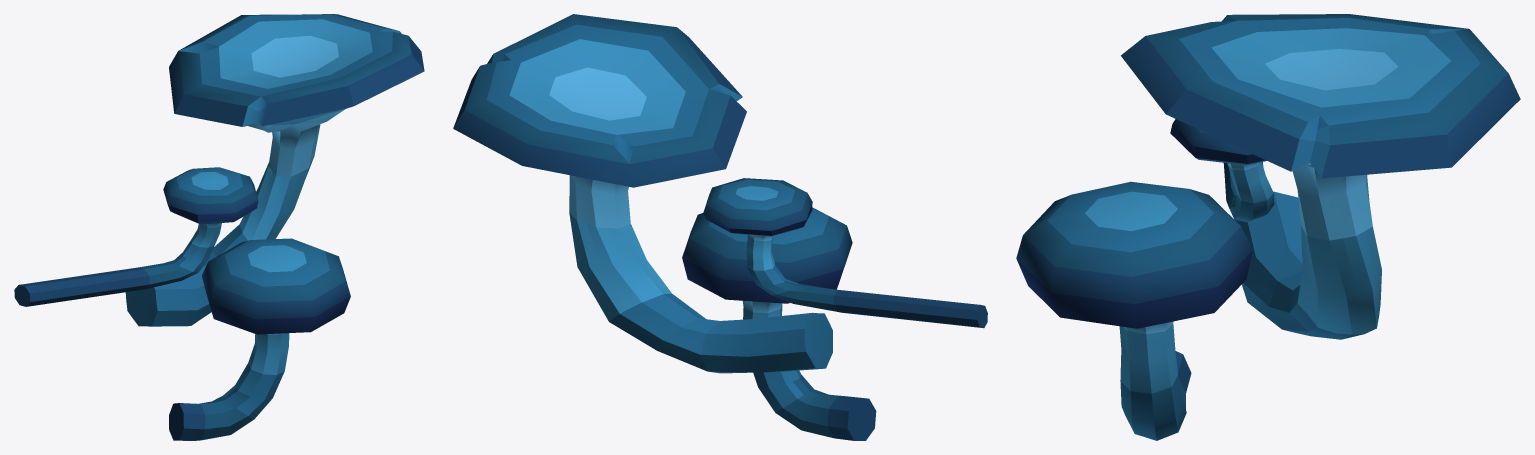
The model's file is mushroomcluster02.fbx.
3 views of the same model, side by side, from view 1: azimuth 30°, elevation 25°; view 2: azimuth 150°, elevation 25°; view 3: azimuth 270°, elevation 25° (orthographic). The views are drawn at different scales.
Parts seen in each view (by area): view 1: MC2_mushroom02, MC2_mushroom03, MC2_mushroom01; view 2: MC2_mushroom02, MC2_mushroom03, MC2_mushroom01; view 3: MC2_mushroom02, MC2_mushroom03, MC2_mushroom01.
Boxes of the visible parts, bbox=[...] form: MC2_mushroom02: bbox=[125, 14, 424, 326]; MC2_mushroom03: bbox=[169, 238, 350, 440]; MC2_mushroom01: bbox=[14, 167, 258, 306]; MC2_mushroom02: bbox=[453, 14, 832, 373]; MC2_mushroom03: bbox=[682, 207, 876, 440]; MC2_mushroom01: bbox=[703, 178, 987, 328]; MC2_mushroom02: bbox=[1121, 14, 1520, 339]; MC2_mushroom03: bbox=[1016, 181, 1252, 440]; MC2_mushroom01: bbox=[1170, 119, 1274, 222].
Size of the model in its own units: 11.73 by 8.62 by 7.94.
